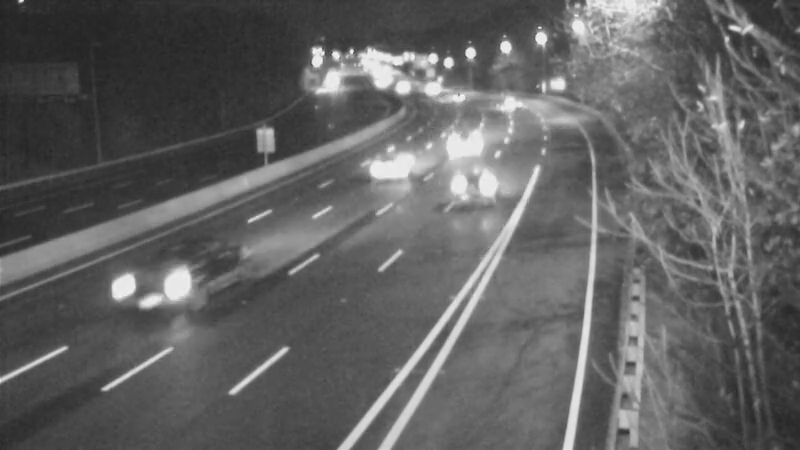vehicle: (355, 129, 435, 209), (445, 139, 525, 219), (120, 243, 200, 323), (431, 73, 481, 123), (488, 76, 538, 126), (444, 106, 494, 156)
